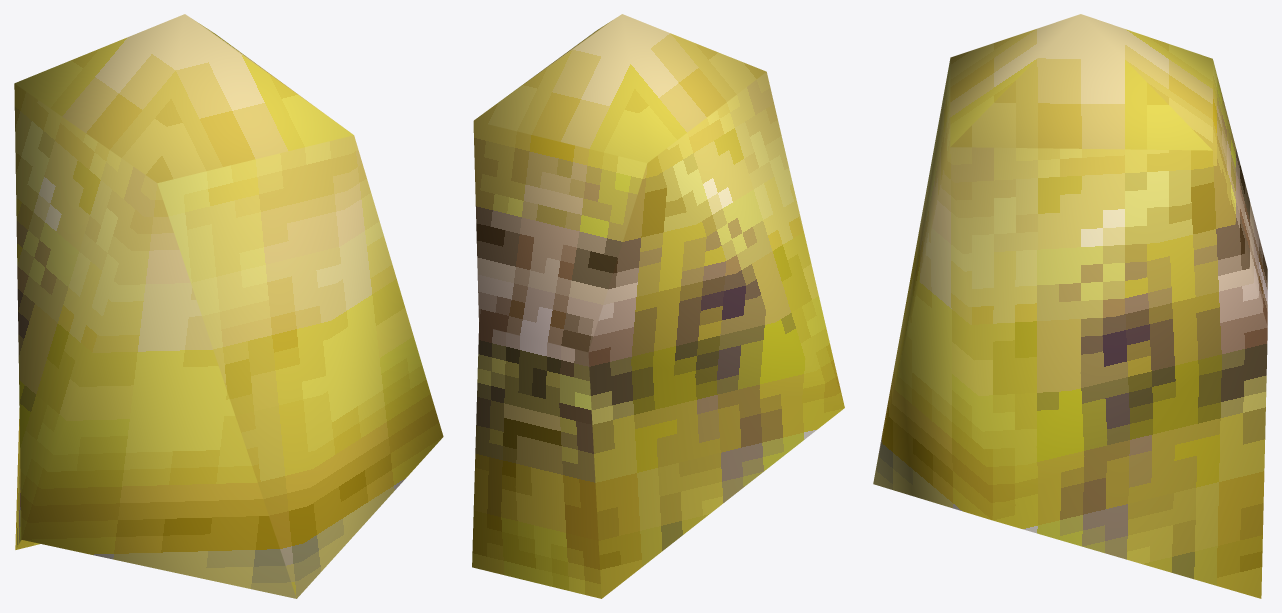
Rendered from cavalry_n_jarl_head_standard.glb.
3 renders of one model, left to right at view 1: azimuth 30°, elevation 25°; view 2: azimuth 150°, elevation 25°; view 3: azimuth 270°, elevation 25°, orthographic. The views are drawn at different scales.
Parts seen in each view (by area): view 1: MeshRoot; view 2: MeshRoot; view 3: MeshRoot.
Boxes of the visible parts, left/top/right/bottom form: MeshRoot: left=14, top=14, right=443, bottom=598; MeshRoot: left=472, top=14, right=844, bottom=598; MeshRoot: left=873, top=14, right=1267, bottom=598.
Size of the model in its own units: 0.3477 by 0.4639 by 0.3018.
1 material, 1 textured.
